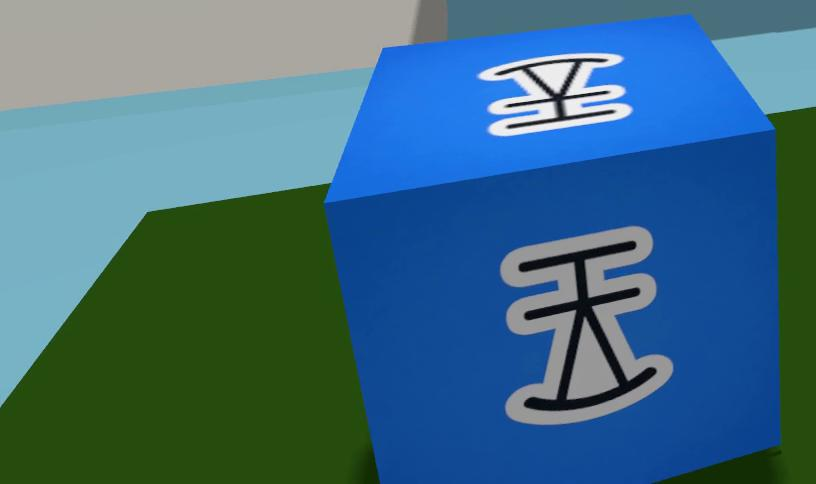KFS_REAL: (325, 16, 780, 483), (501, 226, 671, 424), (478, 53, 632, 136)
